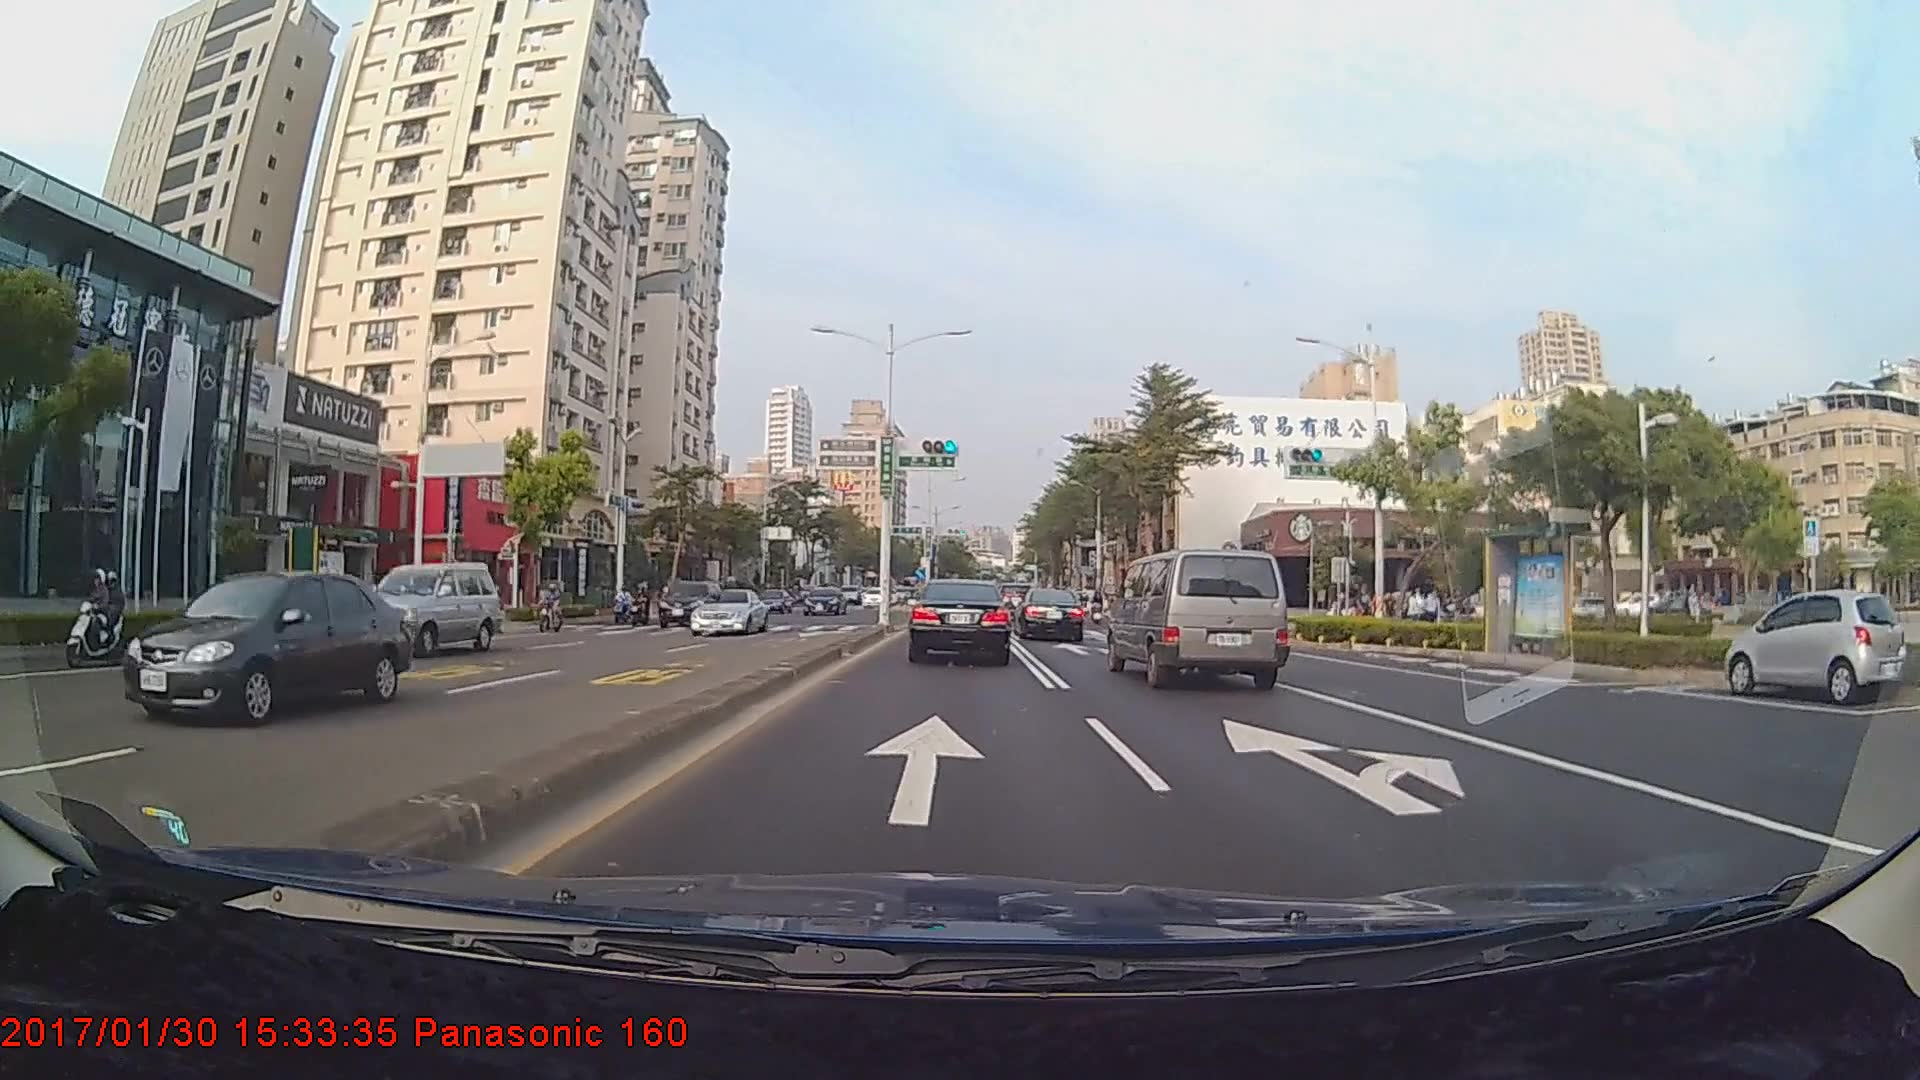rider: (60, 563, 135, 670), (533, 578, 570, 634), (625, 578, 653, 630), (610, 586, 634, 627)
vehicle: (117, 567, 409, 730), (1105, 544, 1288, 692), (1720, 588, 1907, 702), (337, 559, 501, 653), (909, 578, 1011, 663), (687, 587, 767, 635), (1013, 588, 1086, 641), (656, 577, 724, 628), (802, 583, 848, 617)
